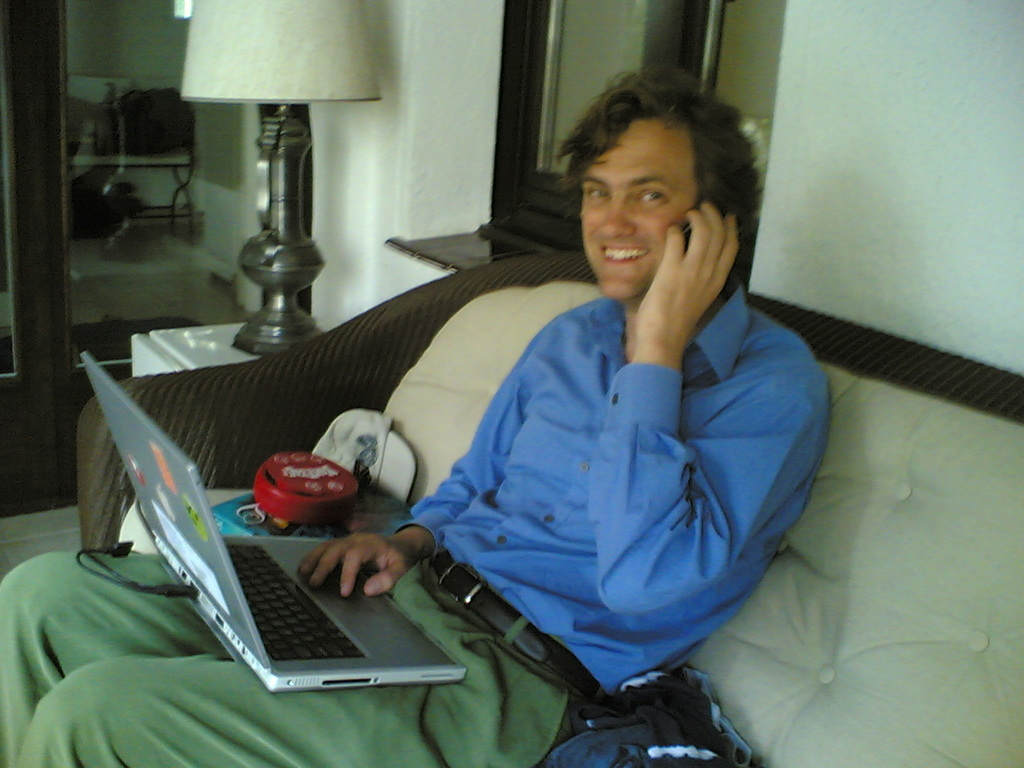Human_hand: (654, 197, 737, 330), (301, 530, 425, 600)
